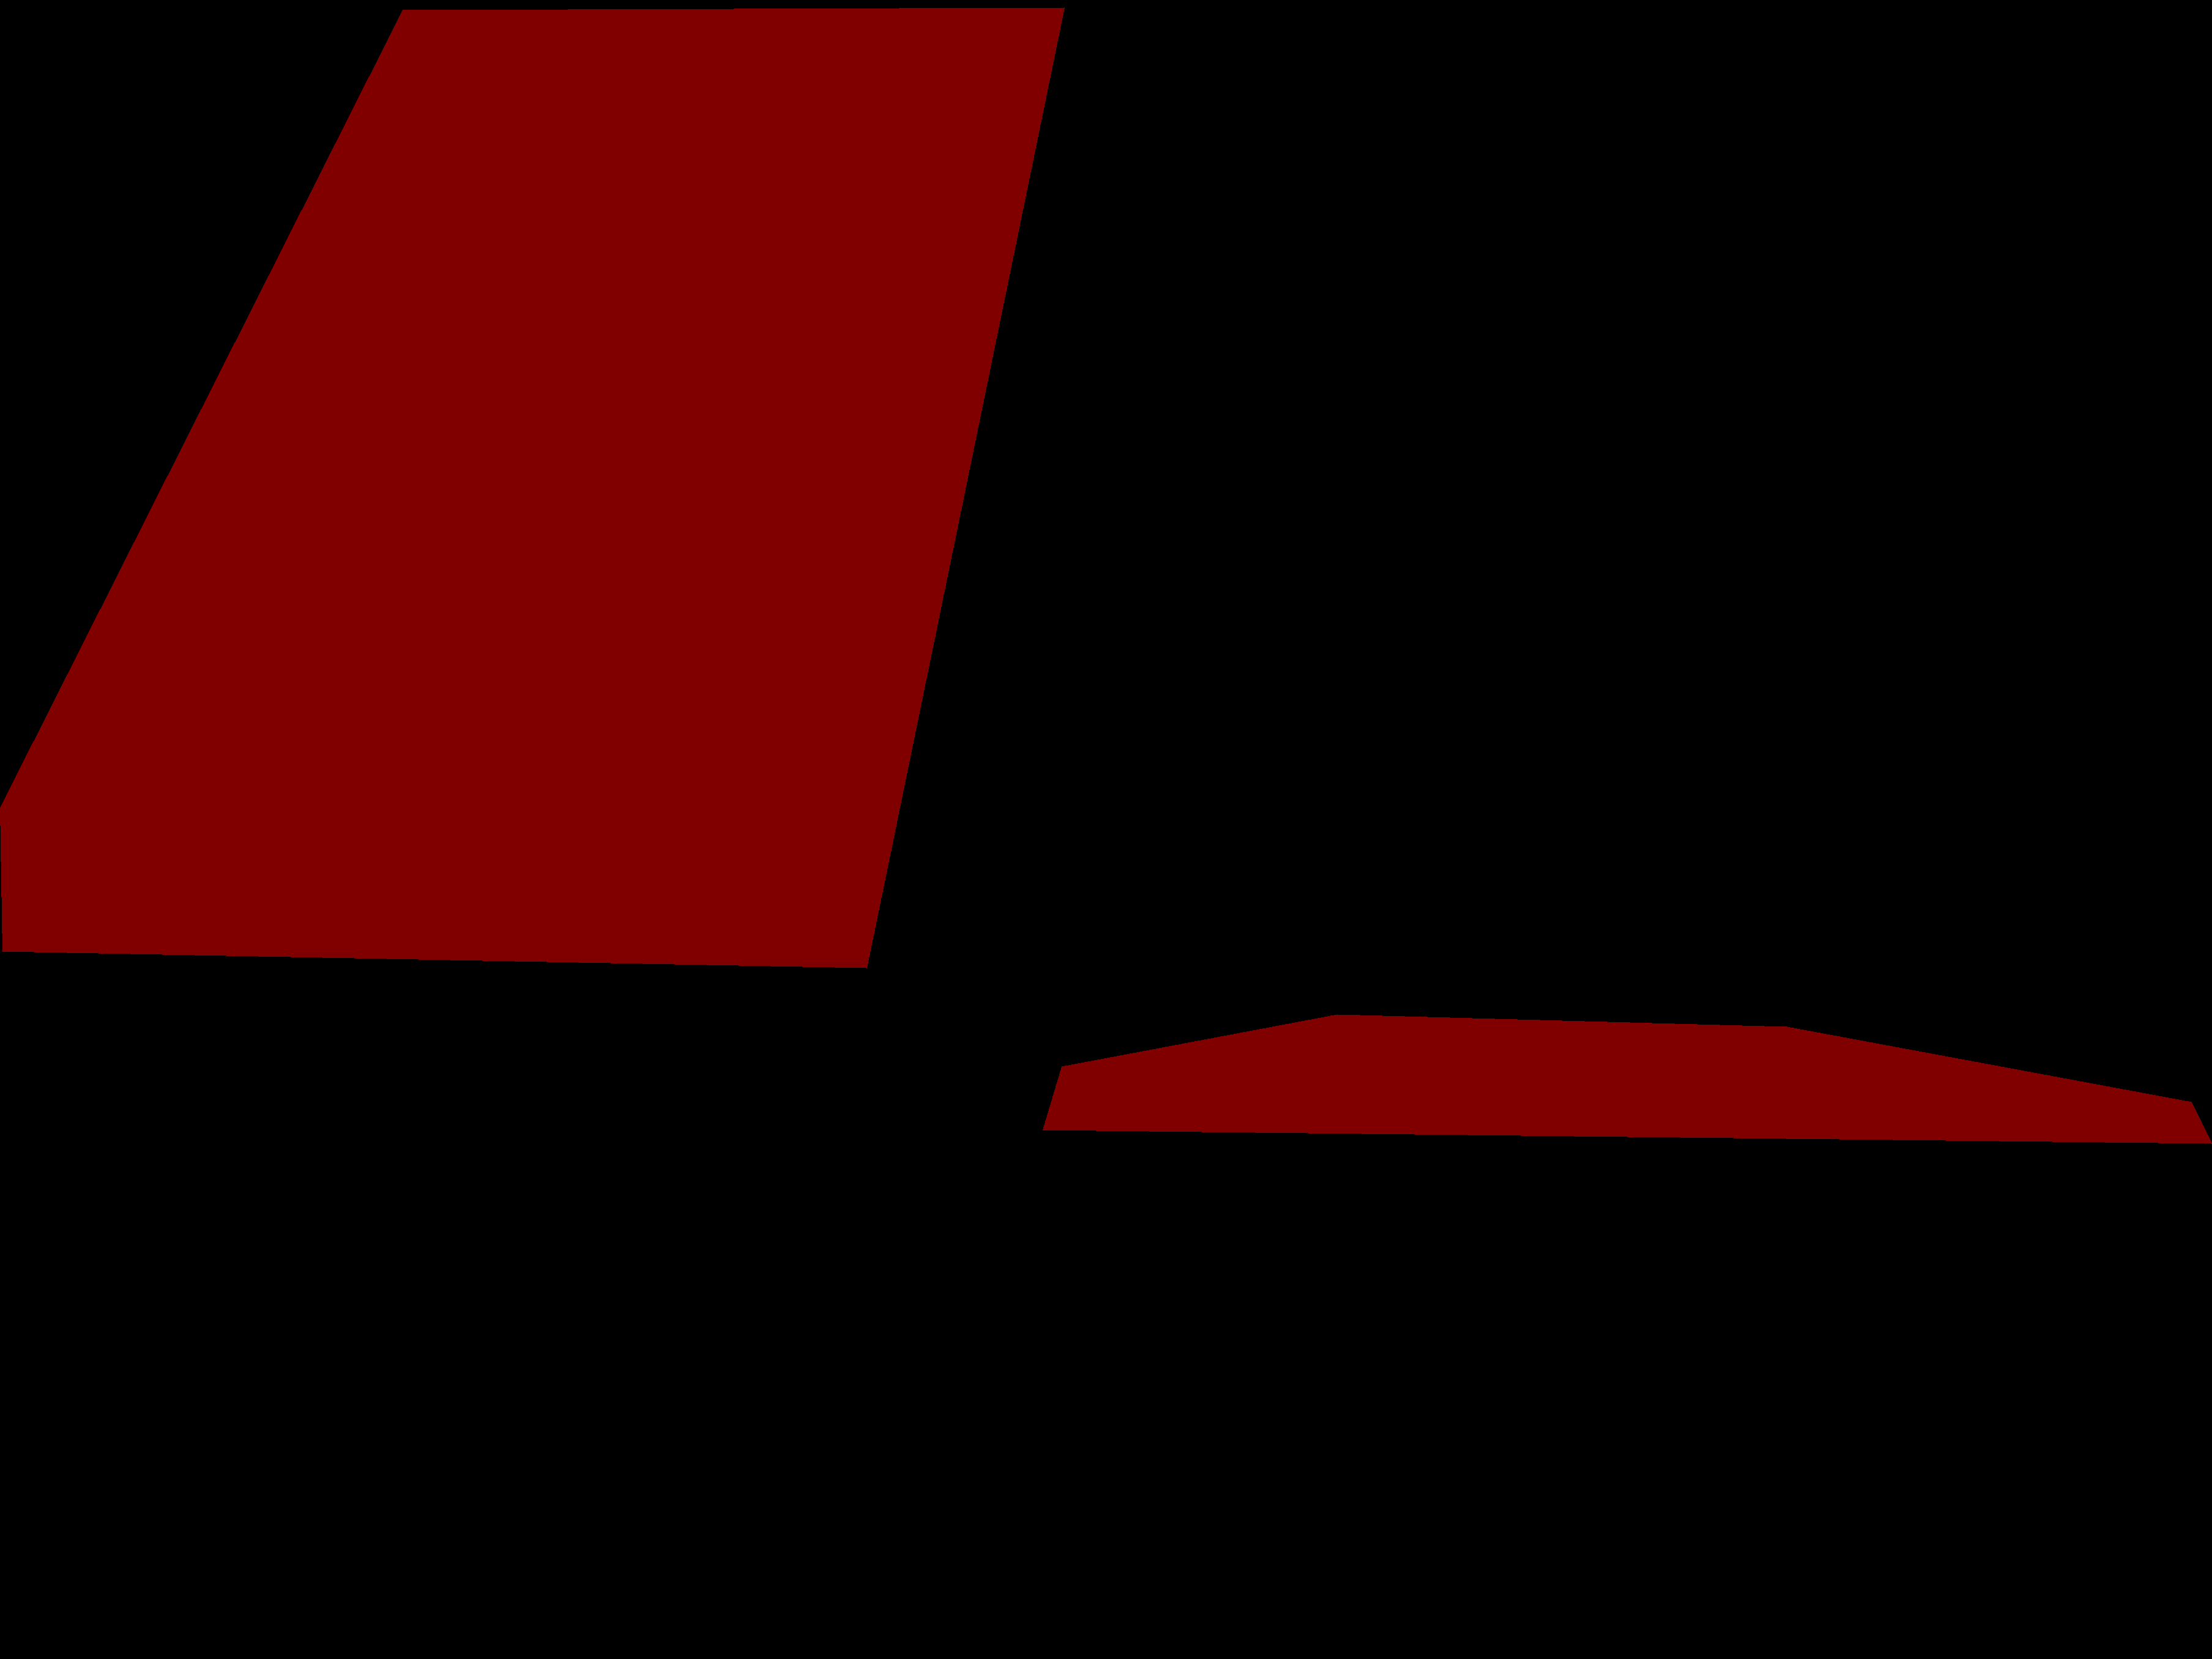stair: (0, 7, 1063, 967), (1042, 1014, 2212, 1143)
